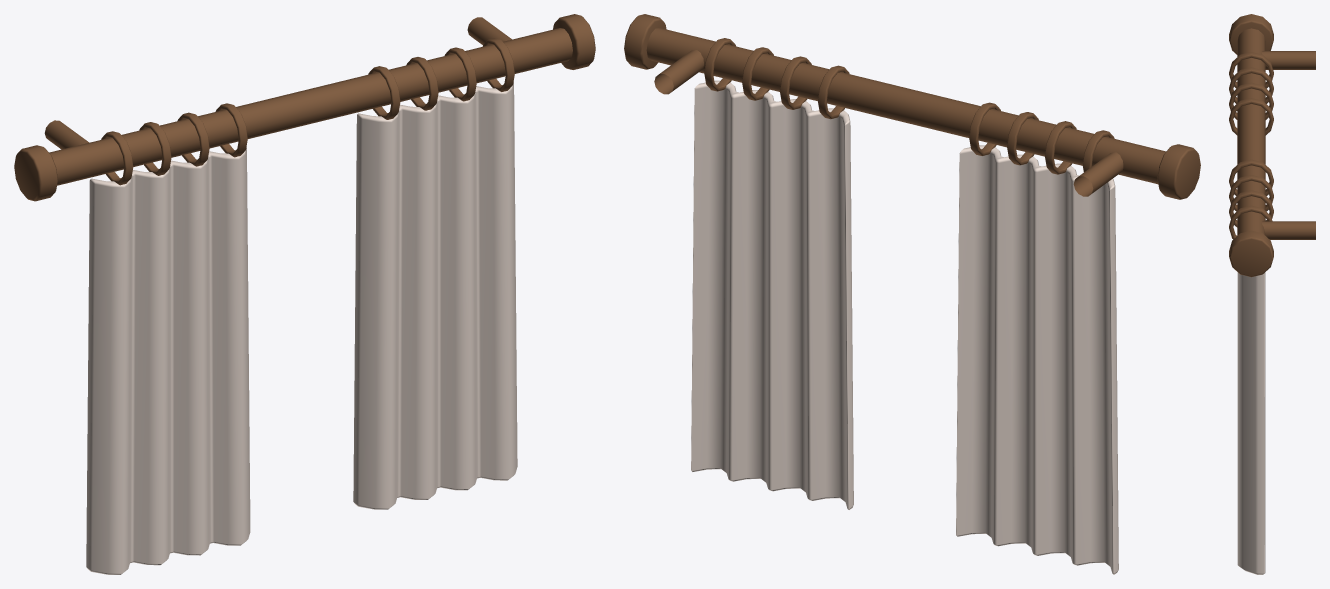
The model's file is Curtains_7.glb.
3 renders of one model, left to right at view 1: azimuth 30°, elevation 25°; view 2: azimuth 150°, elevation 25°; view 3: azimuth 270°, elevation 25°, orthographic. The views are drawn at different scales.
Parts seen in each view (by area): view 1: Curtains_7; view 2: Curtains_7; view 3: Curtains_7.
Boxes of the visible parts, x1,y1,x2,y2 form: Curtains_7: (14, 14, 595, 574); Curtains_7: (624, 14, 1200, 574); Curtains_7: (1229, 14, 1315, 574).
Size of the model in its own units: 2.37 by 1.79 by 0.3878.
1 material, 1 textured.
